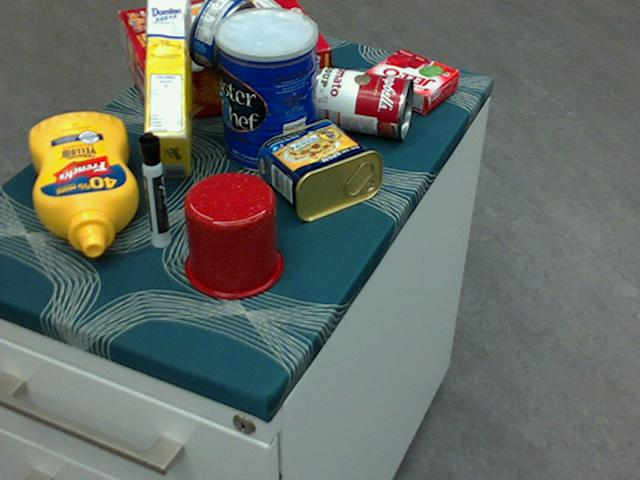cracker_box: (119, 0, 330, 125)
gelatin_box: (364, 50, 458, 112)
large_marker: (137, 132, 171, 246)
master_chef_can: (214, 6, 317, 173)
mug: (183, 170, 283, 298)
mustard_bottle: (28, 112, 137, 256)
potted_meat_can: (257, 117, 383, 222)
sugar_box: (145, 0, 192, 177)
tomato_soup_can: (311, 65, 414, 138)
tuna_fish_can: (188, 0, 258, 73)
